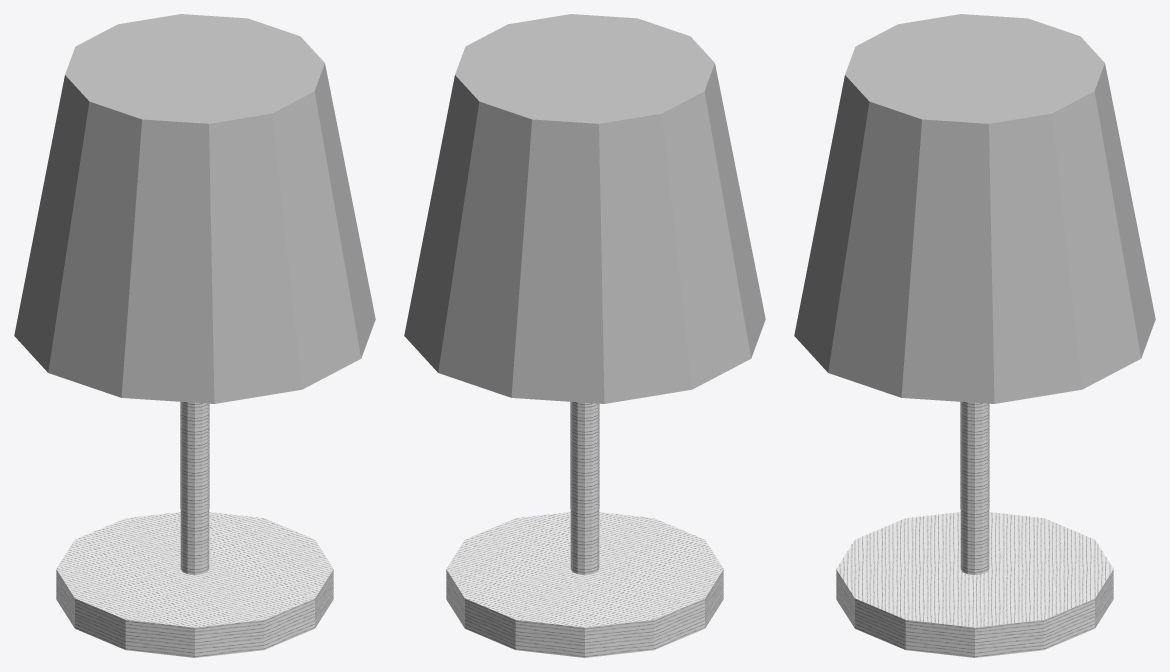
The model's file is Lamp.dae.
3 renders of one model, left to right at view 1: azimuth 30°, elevation 25°; view 2: azimuth 150°, elevation 25°; view 3: azimuth 270°, elevation 25°, orthographic.
Visible parts, largest first — view 1: SketchUp (×3); view 2: SketchUp (×3); view 3: SketchUp (×3).
Part boxes in pixels (box(x1,y1,x2,y2)): SketchUp (×3): box(14, 14, 375, 657); SketchUp (×3): box(404, 14, 765, 657); SketchUp (×3): box(794, 14, 1155, 657).
Size of the model in its own units: 59.51 by 59.51 by 96.33.
